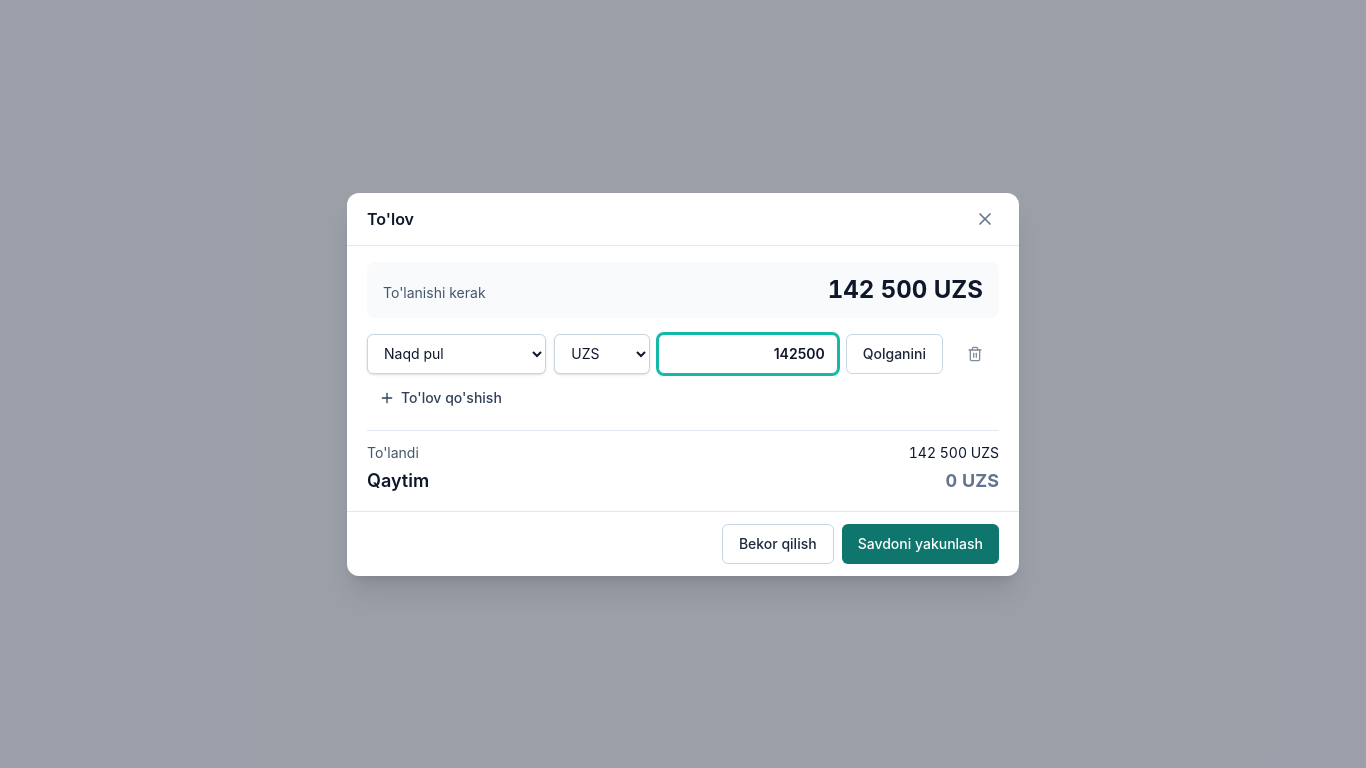
it: to'lov oynasi: nasiya › mijoz tanlanmagan holda to'lov yetmasa, tezkor mijoz qo'shish tugmasi chiqadi
This screenshot has width=1366, height=768.
Later steps or results of the test are not shown.
Replace the text in the field with test id "pay-amount-1" with "20000" at (748, 354), box [658, 334, 838, 374]
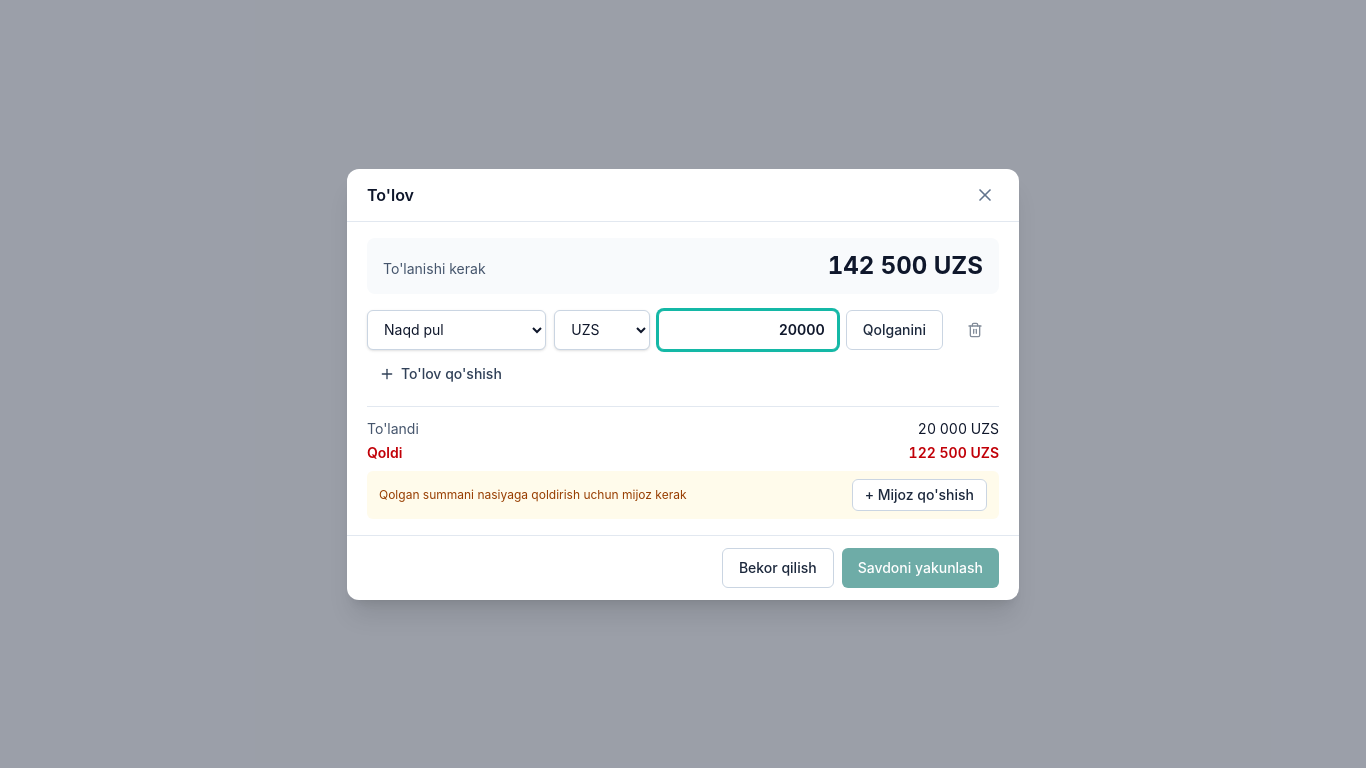
Check: the button with test id "pay-confirm" is disabled, box [842, 548, 999, 588]
